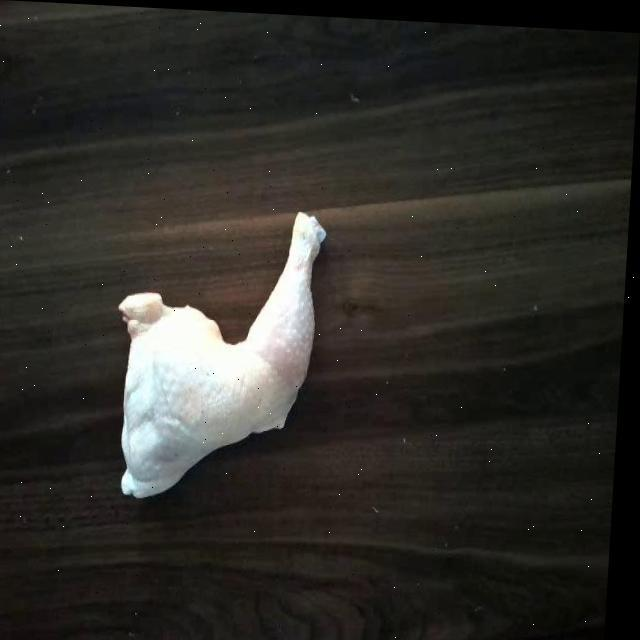quater: (96, 199, 342, 496)
